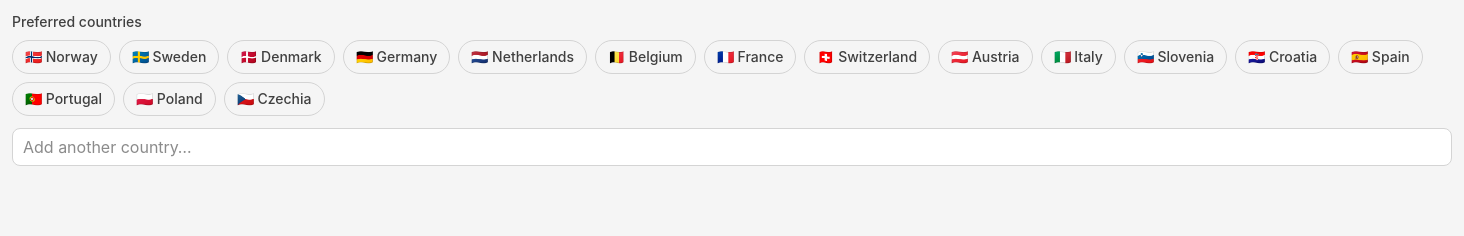
Test case: ChipMultiSelect country search › renders the added country as a selected chip, named and deselectable like a preset
Type "luxem" into the search field with test id "country-search" at [732, 147], box [12,128,1452,166]
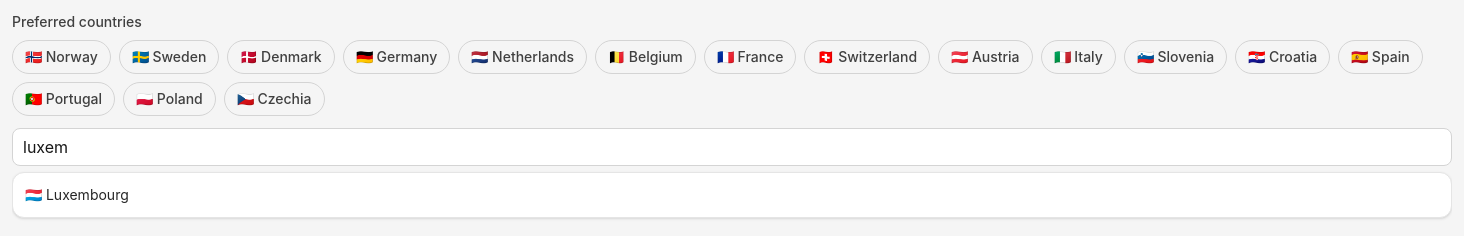
Click the button with test id "country-search-result-LU" at [77, 194], box [13,173,1451,217]
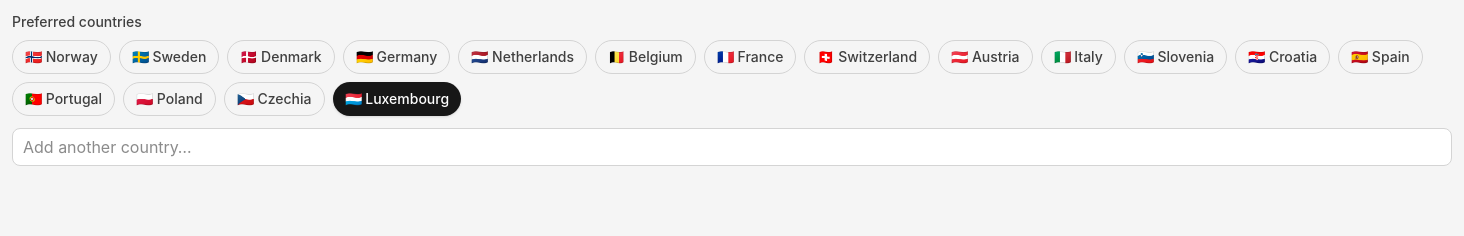
Expected: the button with test id "country-chip-LU" shows "Luxembourg"
Click the button with test id "country-chip-LU" at [397, 99], box [332,82,461,116]
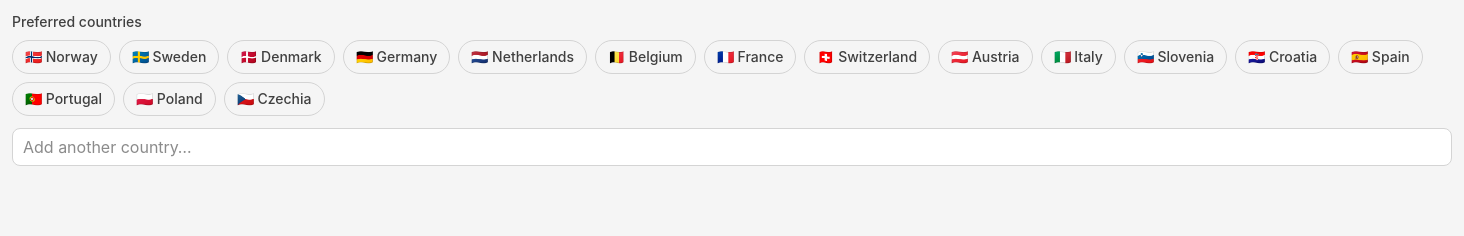
Expected: the button with test id "country-chip-LU" is gone
